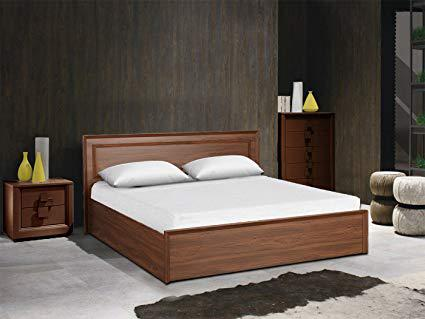bed: (70, 122, 385, 284)
